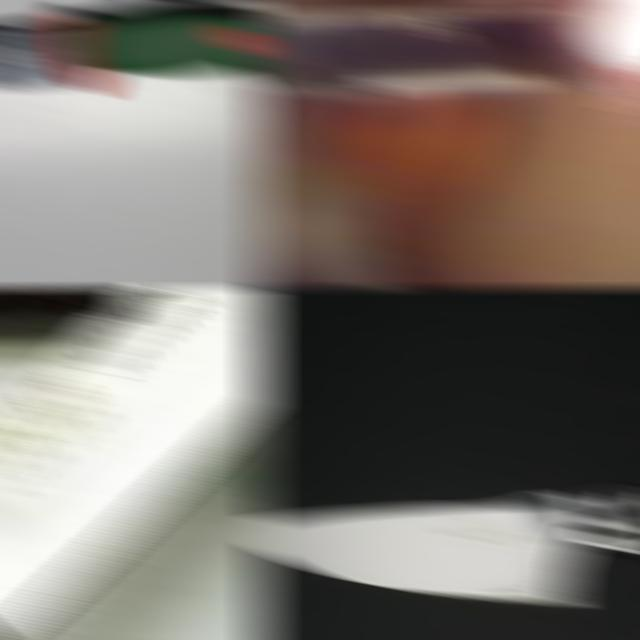Knife: (0, 286, 272, 640), (252, 482, 640, 604), (0, 1, 272, 94)
Knife_Handle: (252, 0, 640, 130)
